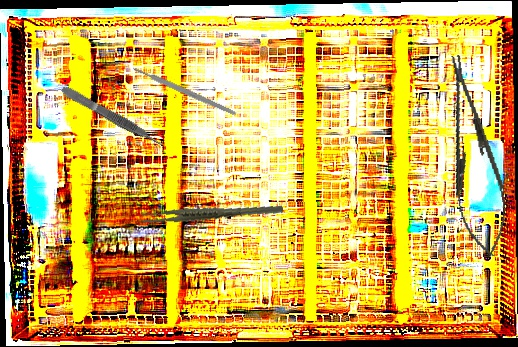Needle Holder: (431, 51, 517, 261)
Scalpel Handle: (131, 65, 238, 117)
Tissue Forceps: (139, 187, 284, 241), (59, 83, 165, 151)
